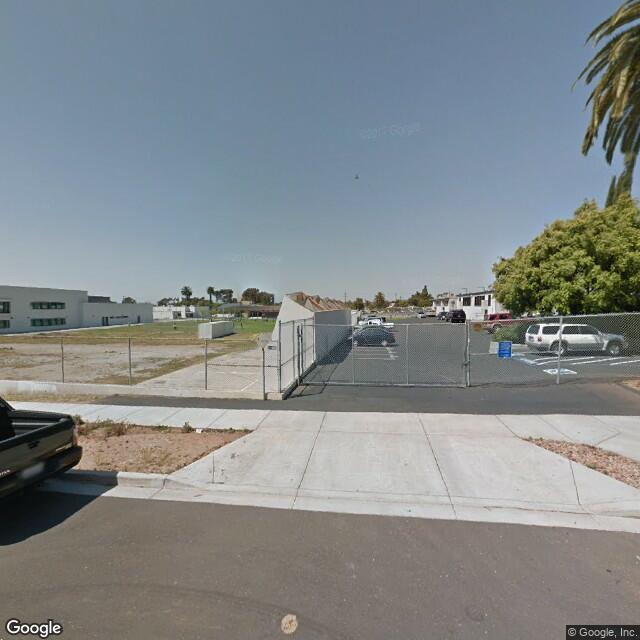litter: (186, 421, 215, 440)
